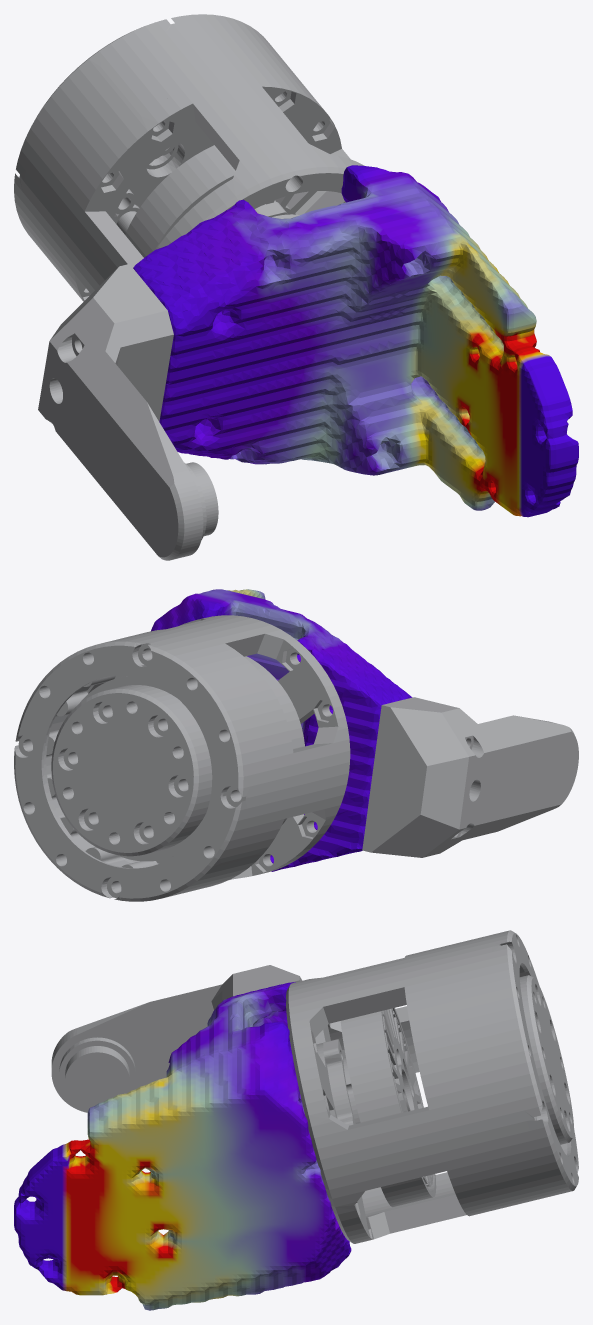
The model's file is arm_left_shoulder_roll_opt.glb.
3 renders of one model, top to bottom at view 1: azimuth 30°, elevation 25°; view 2: azimuth 150°, elevation 25°; view 3: azimuth 270°, elevation 25°, orthographic. The views are drawn at different scales.
Visible parts, largest first — view 1: arm_left_shoulder_roll_visual.stl; view 2: arm_left_shoulder_roll_visual.stl; view 3: arm_left_shoulder_roll_visual.stl.
Boxes of the visible parts, x1,y1,x2,y2 form: arm_left_shoulder_roll_visual.stl: (14,14,578,560); arm_left_shoulder_roll_visual.stl: (14,589,578,901); arm_left_shoulder_roll_visual.stl: (14,930,578,1310).
Size of the model in its own units: 0.1005 by 0.092 by 0.1474.
